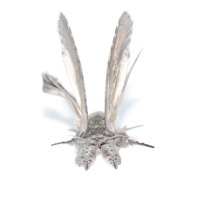insect: (42, 12, 152, 169)
